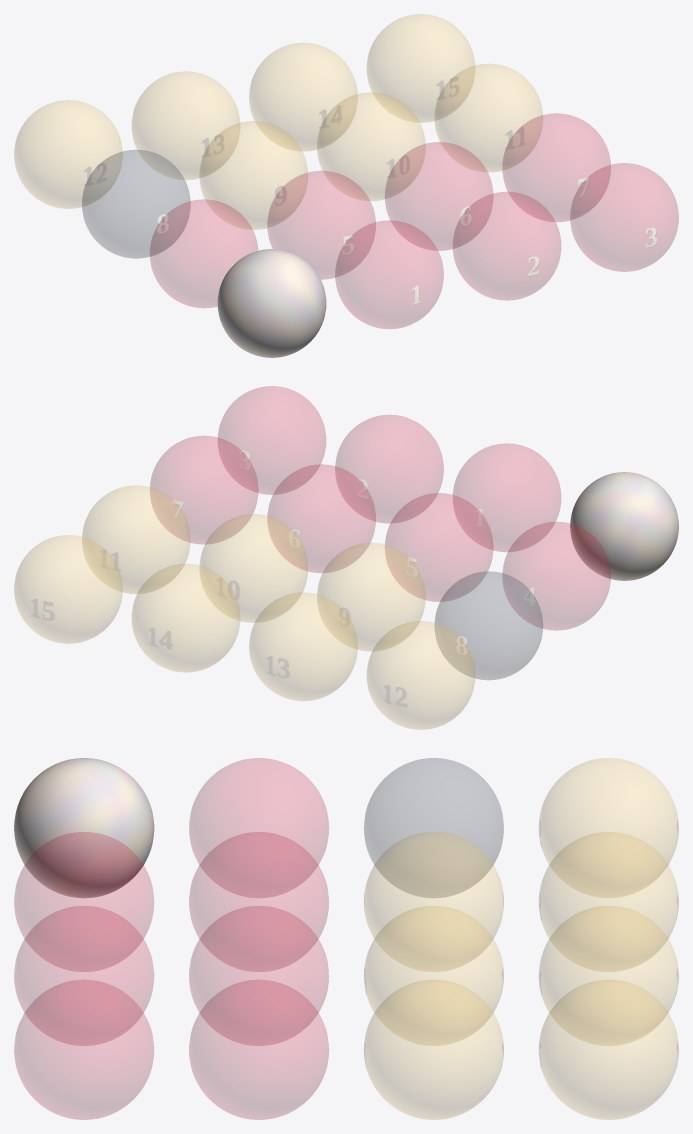
The model's file is gem-balls-quality-full.glb.
3 views of the same model, one above another, from view 1: azimuth 30°, elevation 25°; view 2: azimuth 150°, elevation 25°; view 3: azimuth 270°, elevation 25° (orthographic). The views are drawn at different scales.
Visible parts, largest first — view 1: ball-0, ball-3, ball-8, ball-1, ball-2, ball-12, ball-14, ball-7, ball-15, ball-9, ball-6, ball-13 (+4 smaller); view 2: ball-0, ball-12, ball-15, ball-13, ball-14, ball-8, ball-9, ball-4, ball-2, ball-11, ball-3, ball-5 (+4 smaller); view 3: ball-0, ball-3, ball-15, ball-7, ball-11, ball-8, ball-6, ball-10, ball-12, ball-1, ball-5, ball-9 (+4 smaller).
Part boxes in pixels (x1,y1,x2,y2): ball-0: (217, 249, 326, 357); ball-3: (570, 163, 678, 271); ball-8: (82, 150, 190, 258); ball-1: (335, 220, 443, 328); ball-2: (453, 192, 560, 300); ball-12: (14, 100, 122, 208); ball-14: (249, 43, 357, 151); ball-7: (502, 113, 610, 221); ball-15: (367, 14, 474, 122); ball-9: (199, 121, 307, 229); ball-6: (385, 142, 492, 250); ball-13: (132, 71, 239, 179); ball-0: (570, 472, 678, 580); ball-12: (367, 621, 474, 729); ball-15: (14, 535, 122, 643); ball-13: (249, 592, 357, 700); ball-14: (132, 564, 239, 672); ball-8: (434, 571, 542, 679); ball-9: (317, 543, 425, 651); ball-4: (502, 522, 610, 630); ball-2: (335, 415, 443, 523); ball-11: (82, 485, 190, 593); ball-3: (218, 386, 325, 494); ball-5: (385, 493, 493, 601); ball-0: (14, 758, 154, 898); ball-3: (14, 980, 153, 1119); ball-15: (539, 980, 678, 1119); ball-7: (189, 980, 328, 1119); ball-11: (364, 980, 503, 1119); ball-8: (364, 758, 503, 897); ball-6: (189, 906, 328, 1045); ball-10: (364, 906, 503, 1045); ball-12: (539, 758, 678, 897); ball-1: (14, 832, 153, 971); ball-5: (189, 832, 328, 971); ball-9: (364, 832, 503, 971).
Bounding box in the file's own units: 0.4278 × 0.0903 × 0.4278.
Materials: 16 (16 with a texture image).
